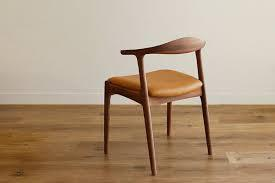chair: (80, 27, 225, 174)
